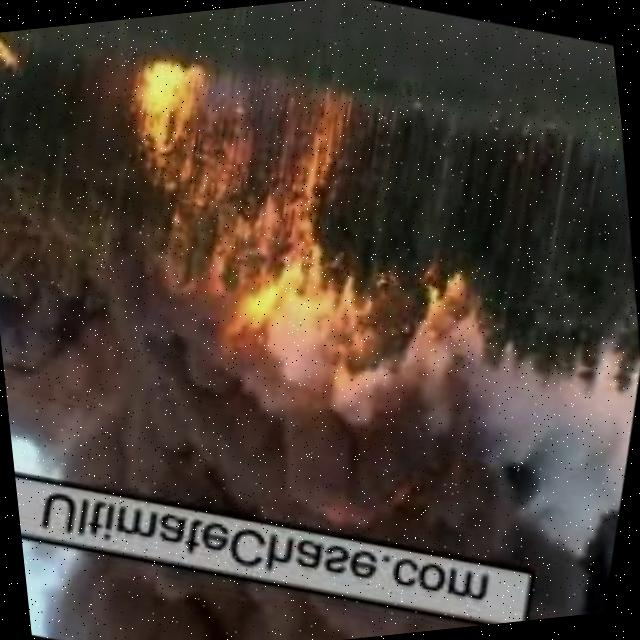fire: (199, 51, 392, 373), (104, 43, 228, 184), (397, 256, 487, 367), (0, 30, 23, 74)
